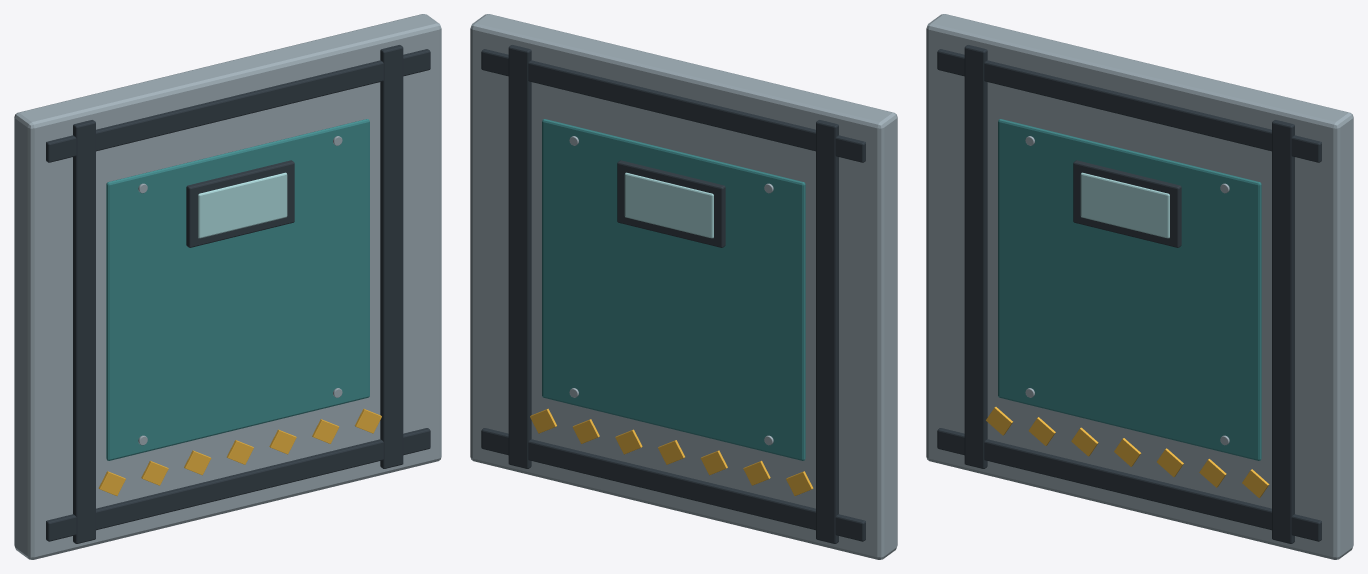
File: security-door.glb
3 renders of one model, left to right at view 1: azimuth 30°, elevation 25°; view 2: azimuth 150°, elevation 25°; view 3: azimuth 330°, elevation 25°, orthographic.
Visible parts, largest first — view 1: Reinforced slab, Inset panel, Edge reinforcement.001, Edge reinforcement, Cross rail, Cross rail.001, Inspection window, Window frame; view 2: Reinforced slab, Inset panel.001, Edge reinforcement.003, Edge reinforcement.002, Cross rail.002, Cross rail.003, Inspection window.001, Window frame.001; view 3: Reinforced slab, Inset panel, Edge reinforcement, Edge reinforcement.001, Cross rail, Cross rail.001, Inspection window, Window frame.
Part boxes in pixels (left/top/right/bottom): Reinforced slab: left=14, top=14, right=441, bottom=559; Inset panel: left=106, top=119, right=369, bottom=460; Edge reinforcement.001: left=380, top=45, right=403, bottom=468; Edge reinforcement: left=73, top=120, right=95, bottom=543; Cross rail: left=46, top=428, right=430, bottom=541; Cross rail.001: left=46, top=49, right=430, bottom=162; Inspection window: left=198, top=172, right=287, bottom=238; Window frame: left=186, top=160, right=294, bottom=247; Reinforced slab: left=470, top=14, right=897, bottom=559; Inset panel.001: left=542, top=119, right=805, bottom=460; Edge reinforcement.003: left=508, top=45, right=531, bottom=468; Edge reinforcement.002: left=816, top=120, right=838, bottom=543; Cross rail.002: left=481, top=428, right=865, bottom=541; Cross rail.003: left=481, top=49, right=865, bottom=162; Inspection window.001: left=624, top=172, right=713, bottom=238; Window frame.001: left=617, top=160, right=725, bottom=247; Reinforced slab: left=926, top=14, right=1353, bottom=559; Inset panel: left=998, top=119, right=1261, bottom=460; Edge reinforcement: left=964, top=45, right=987, bottom=468; Edge reinforcement.001: left=1272, top=120, right=1294, bottom=543; Cross rail: left=937, top=428, right=1321, bottom=541; Cross rail.001: left=937, top=49, right=1321, bottom=162; Inspection window: left=1080, top=172, right=1169, bottom=238; Window frame: left=1073, top=160, right=1181, bottom=247.
Size of the model in its own units: 2.42 by 2.45 by 0.3126.
